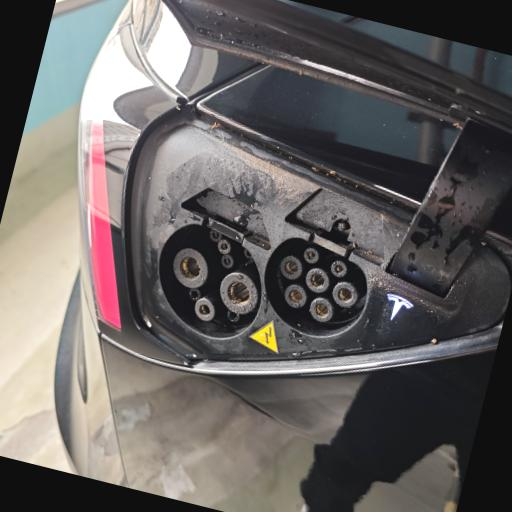AC_charging_hole: (250, 226, 384, 350)
DC_charging_port: (139, 214, 277, 352)
DC_hole: (167, 242, 216, 293), (214, 267, 262, 318)
PE: (189, 294, 219, 324)
